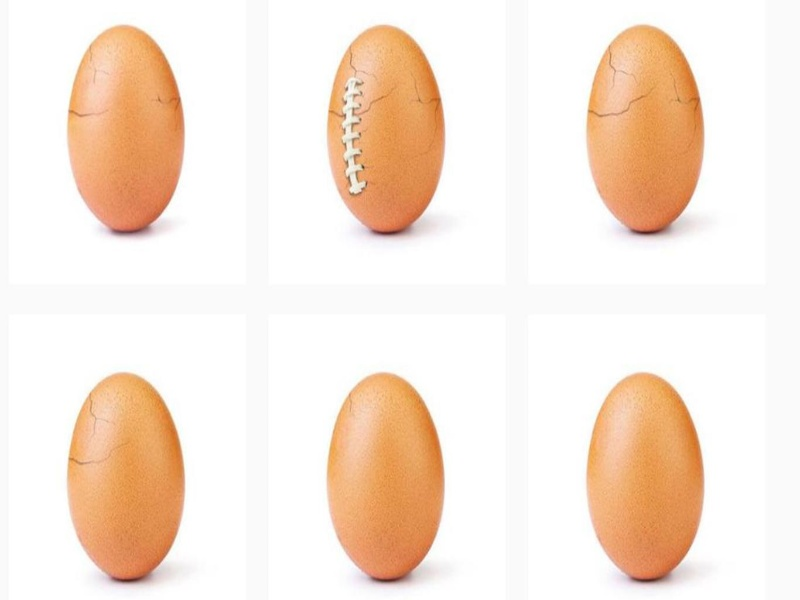Huevo: (319, 18, 457, 244), (317, 368, 456, 592), (579, 368, 712, 588), (63, 20, 190, 243), (580, 23, 709, 235), (63, 365, 186, 586)
